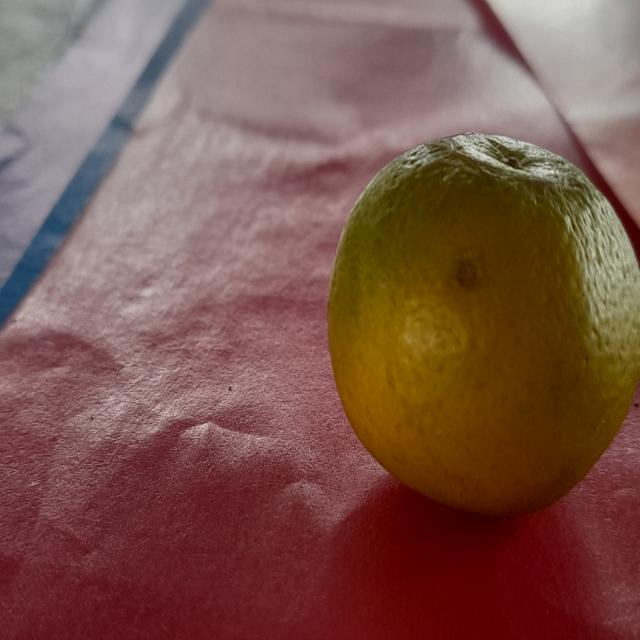greening: (312, 128, 640, 516)
